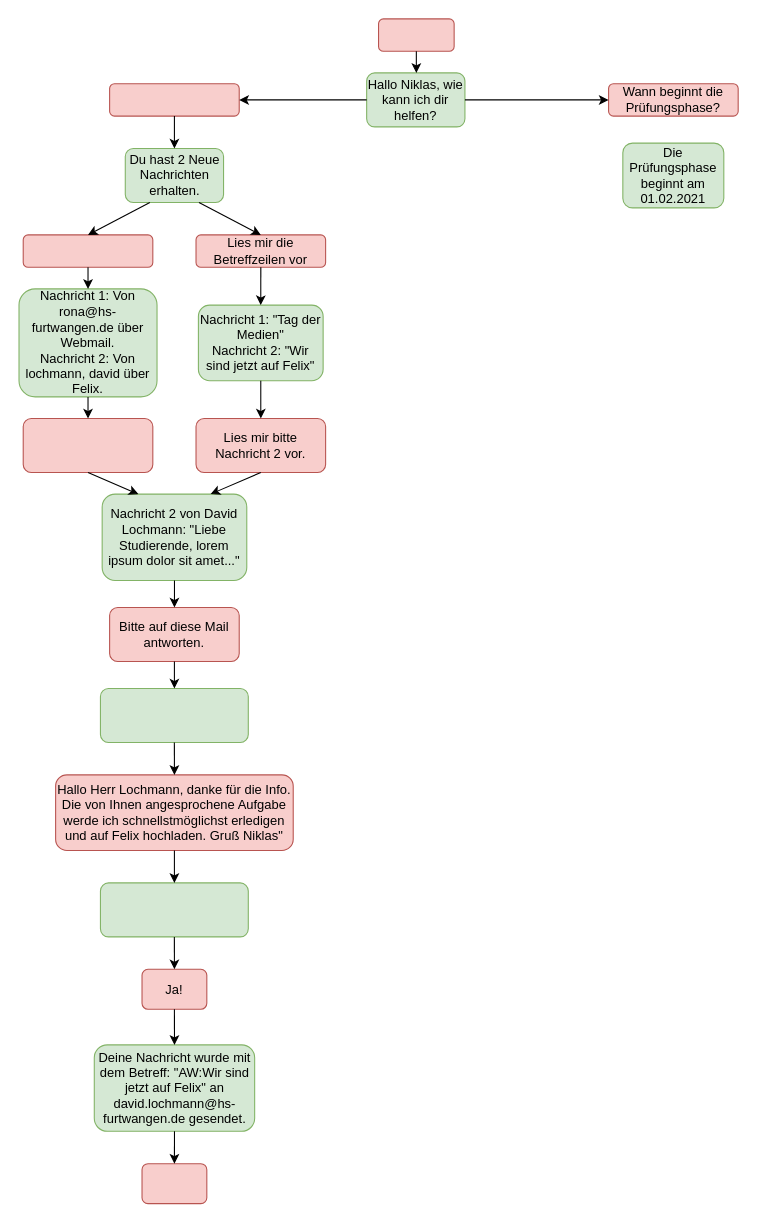
This 757x1223 diagram has some shape labels left out. Each missing label, with the box of its shape:
Danke DIGI!: (141, 1163, 207, 1204)
Deine Nachricht: "Hallo Herr Lo (...) Gruß Niklas" versenden?: (99, 882, 248, 937)
Habe ich neue Nachrichten?: (109, 83, 239, 116)
Lies mir bitte die Mail von David Lochmann vor.: (22, 417, 153, 473)
Moin DIGI: (377, 18, 454, 51)
Teil mir deine Nachricht mit.: (99, 687, 248, 742)
Von wem und über welches Portal?: (22, 234, 153, 267)
